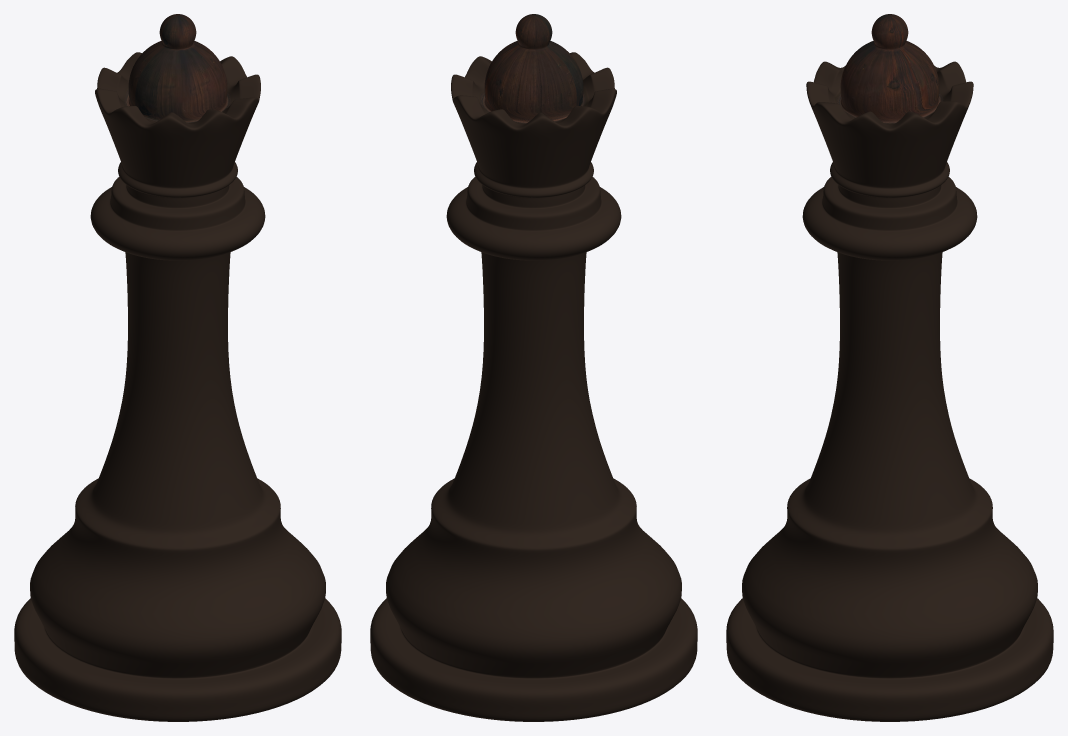
The model's file is queen.glb.
3 views of the same model, side by side, from view 1: azimuth 30°, elevation 25°; view 2: azimuth 150°, elevation 25°; view 3: azimuth 270°, elevation 25° (orthographic).
Visible parts, largest first — view 1: Circle.001; view 2: Circle.001; view 3: Circle.001.
Boxes of the visible parts, x1,y1,x2,y2 form: Circle.001: [14, 14, 341, 721]; Circle.001: [370, 14, 697, 721]; Circle.001: [726, 14, 1053, 721].
Bounding box in the file's own units: 4.5 × 9.71 × 4.5.
Materials: 1 (1 with a texture image).
